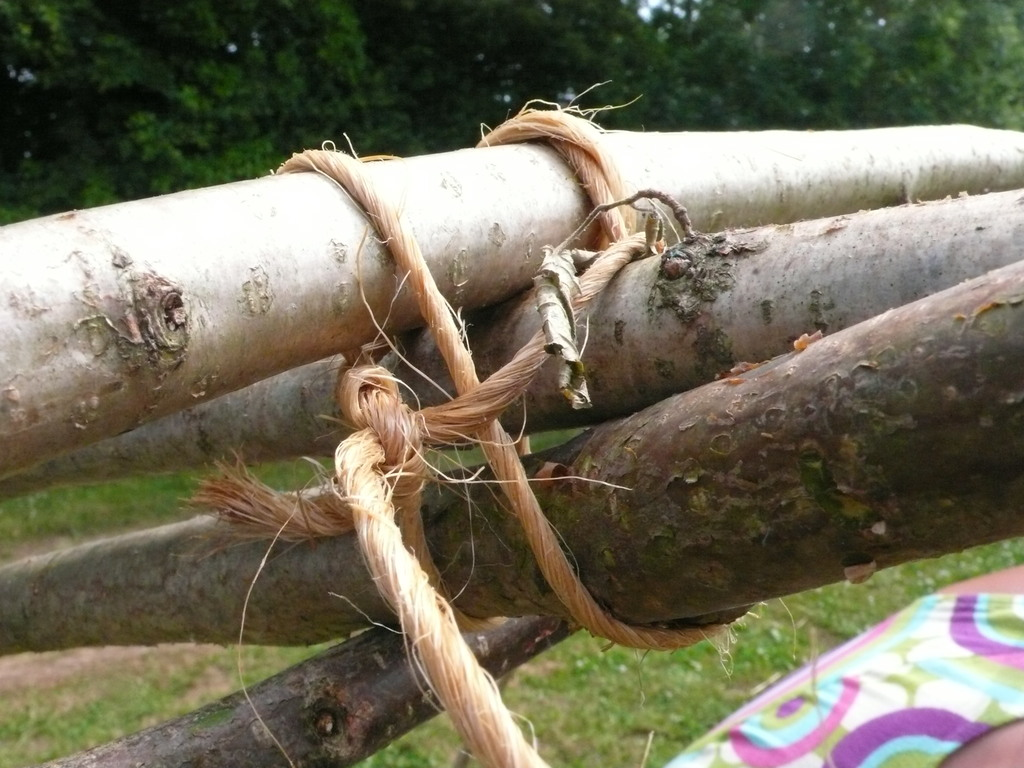Tree: (0, 0, 1023, 216)
